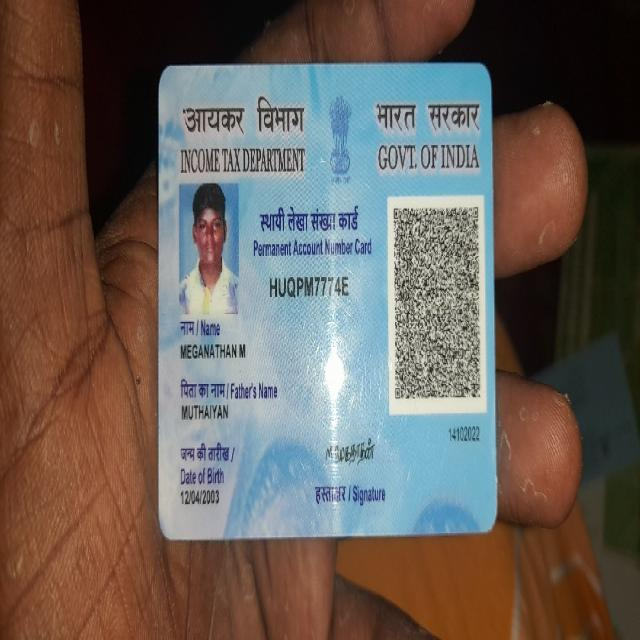pan_card: (161, 67, 494, 532)
